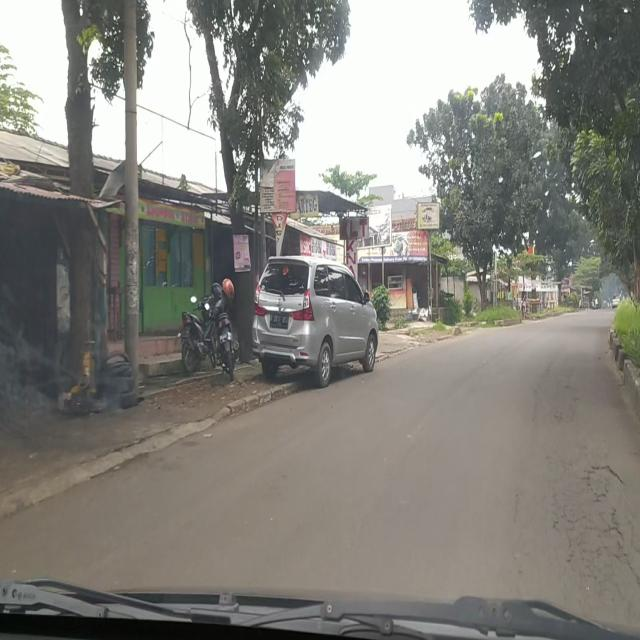Drain Hole: (547, 462, 638, 608)
